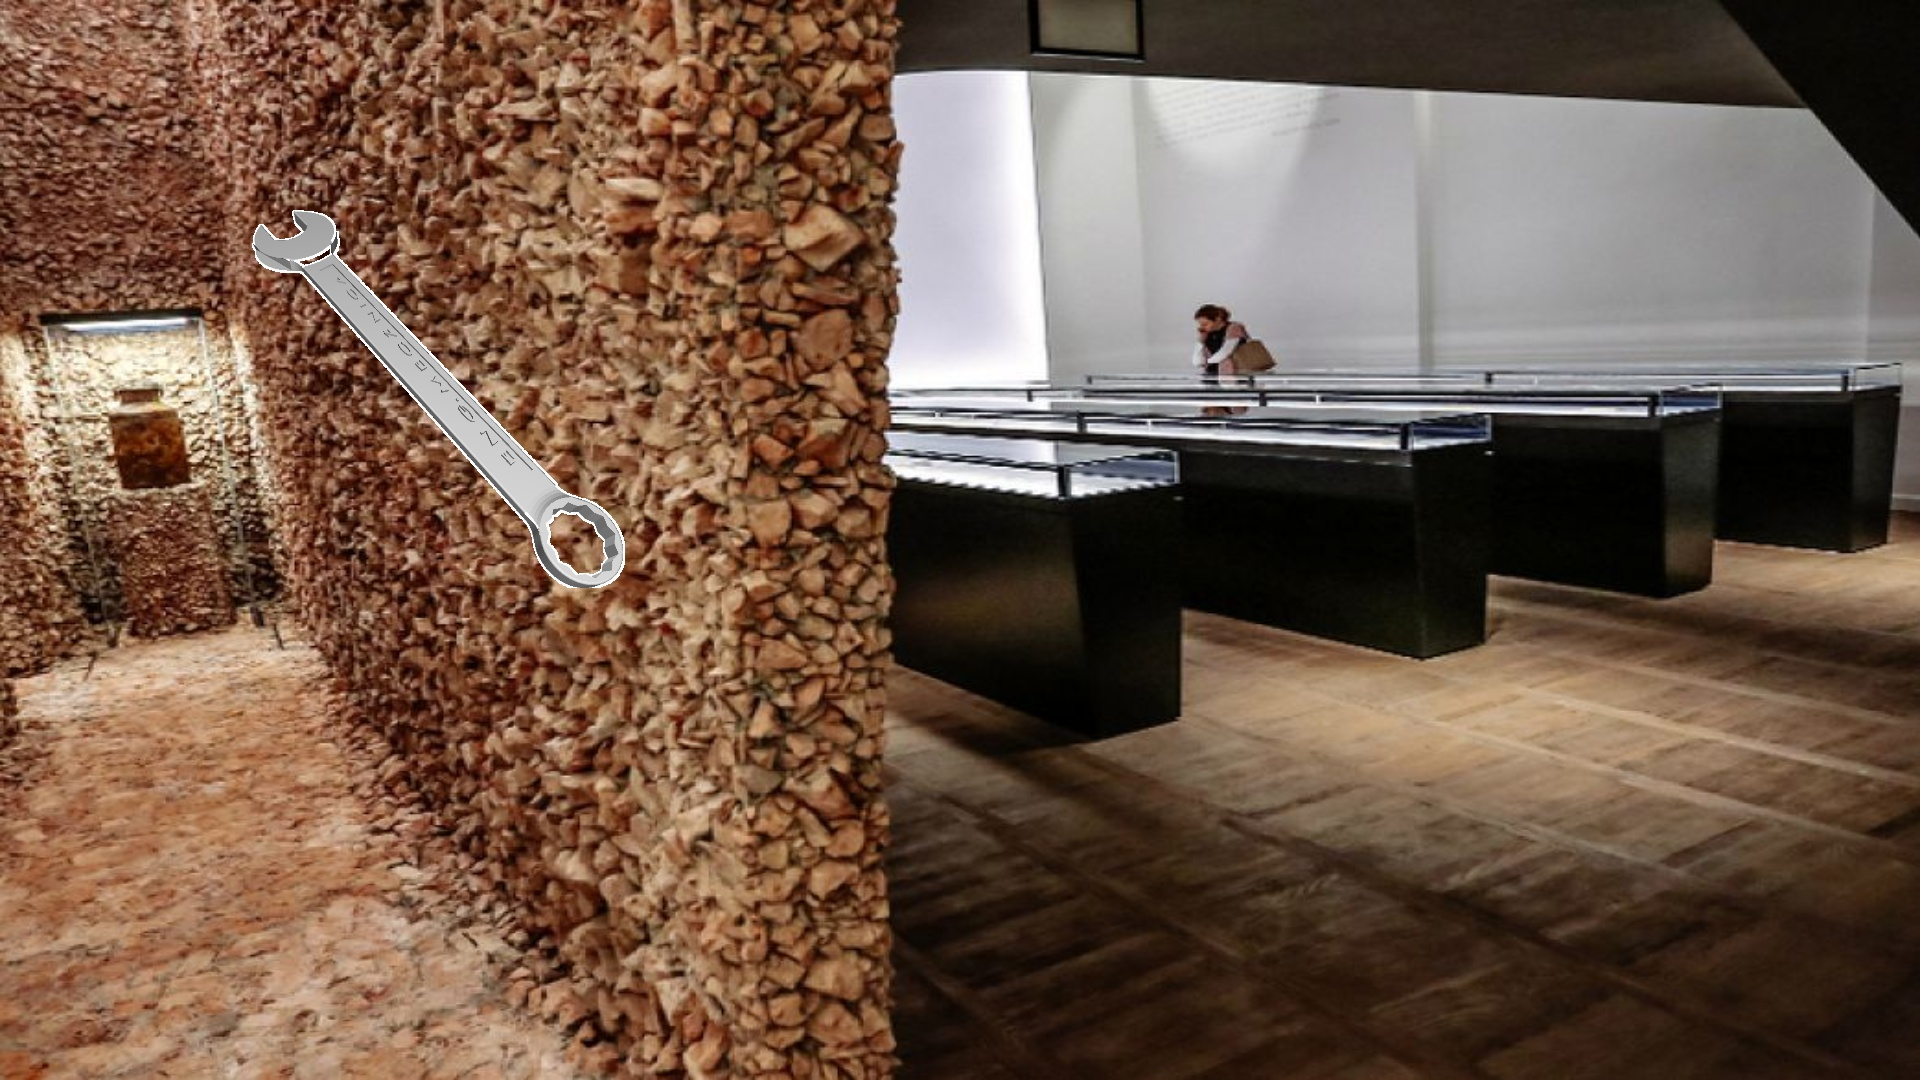Mixed Key: (252, 210, 624, 587)
